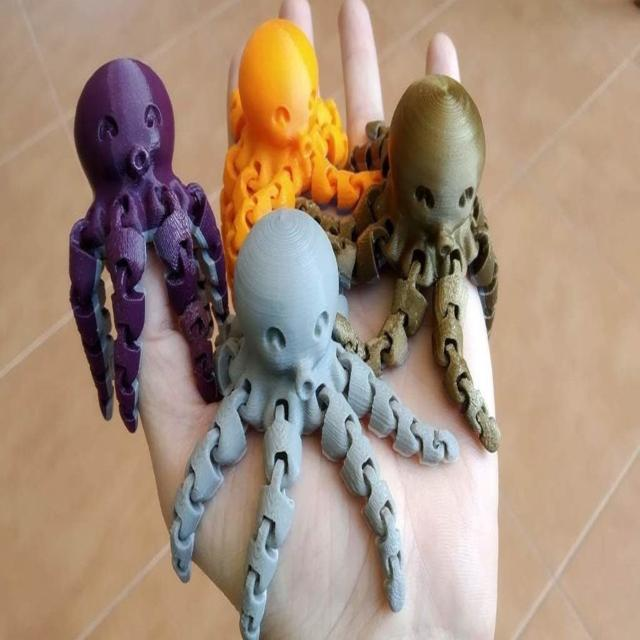Without deffect: (52, 19, 536, 613)
